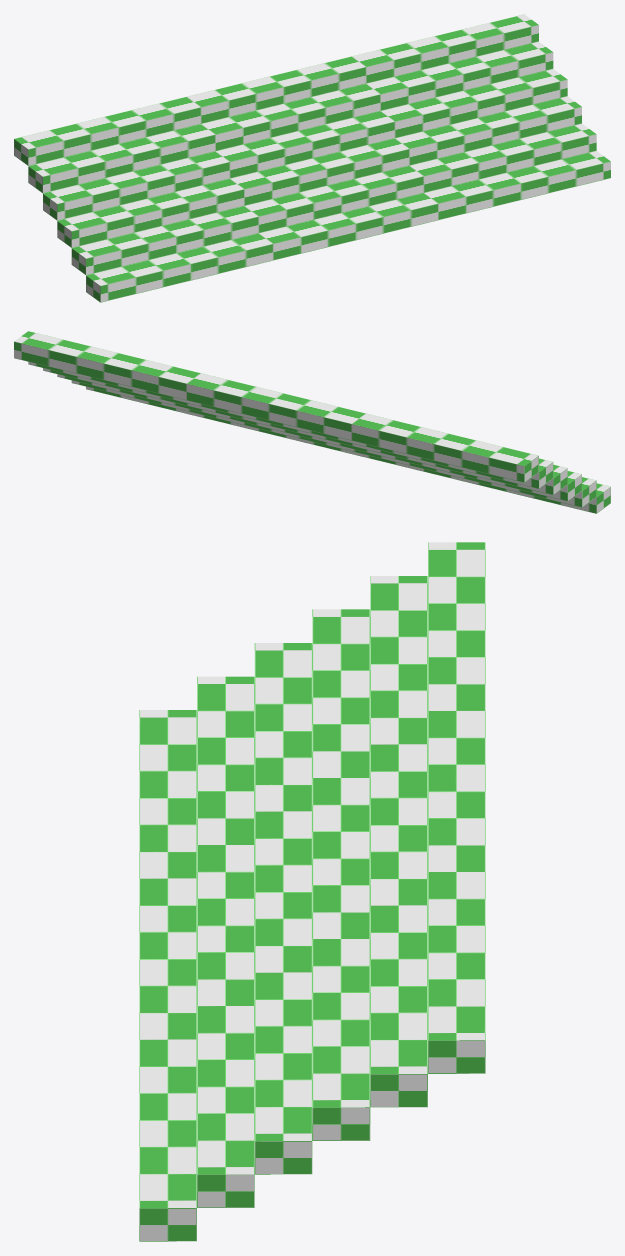
Rendered from Stairs.fbx.
3 renders of one model, top to bottom at view 1: azimuth 30°, elevation 25°; view 2: azimuth 150°, elevation 25°; view 3: azimuth 270°, elevation 25°, orthographic. The views are drawn at different scales.
Parts seen in each view (by area): view 1: Box149, Box152, Box151, Box150, Box153, Box148; view 2: Box148, Box152, Box149, Box150, Box153, Box151; view 3: Box150, Box151, Box148, Box149, Box152, Box153.
Part boxes in pixels (<box>): Box149: <box>28,41,553,193</box>; Box152: <box>71,123,596,275</box>; Box151: <box>57,96,581,247</box>; Box150: <box>43,69,567,220</box>; Box153: <box>86,151,610,302</box>; Box148: <box>14,14,538,165</box>; Box148: <box>14,331,538,482</box>; Box152: <box>71,380,596,507</box>; Box149: <box>28,362,553,488</box>; Box150: <box>43,368,567,494</box>; Box153: <box>86,386,610,513</box>; Box151: <box>57,374,581,501</box>; Box150: <box>312,609,370,1140</box>; Box151: <box>254,643,312,1174</box>; Box148: <box>428,542,485,1073</box>; Box149: <box>370,576,427,1107</box>; Box152: <box>197,676,254,1207</box>; Box153: <box>139,710,196,1241</box>.
Bounding box in the file's own units: 570 × 167 × 107.
1 material, 1 textured.
